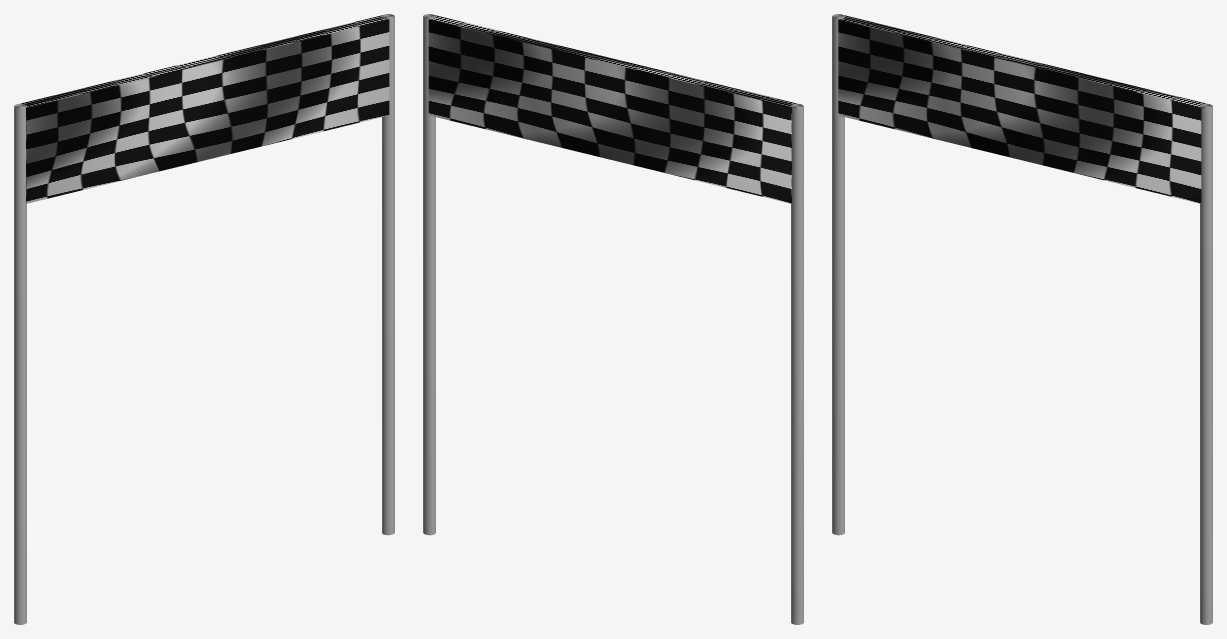
File: goal_flag.fbx
The picture shows the model from 3 angles, left to right: view 1: azimuth 30°, elevation 25°; view 2: azimuth 150°, elevation 25°; view 3: azimuth 330°, elevation 25°; orthographic projection.
Visible parts, largest first — view 1: Cylinder; view 2: Cylinder; view 3: Cylinder.
Boxes of the visible parts, x1,y1,x2,y2 form: Cylinder: (14, 14, 394, 624); Cylinder: (423, 14, 803, 624); Cylinder: (832, 14, 1212, 624).
Bounding box in the file's own units: 1.97 × 2.56 × 0.0562.
